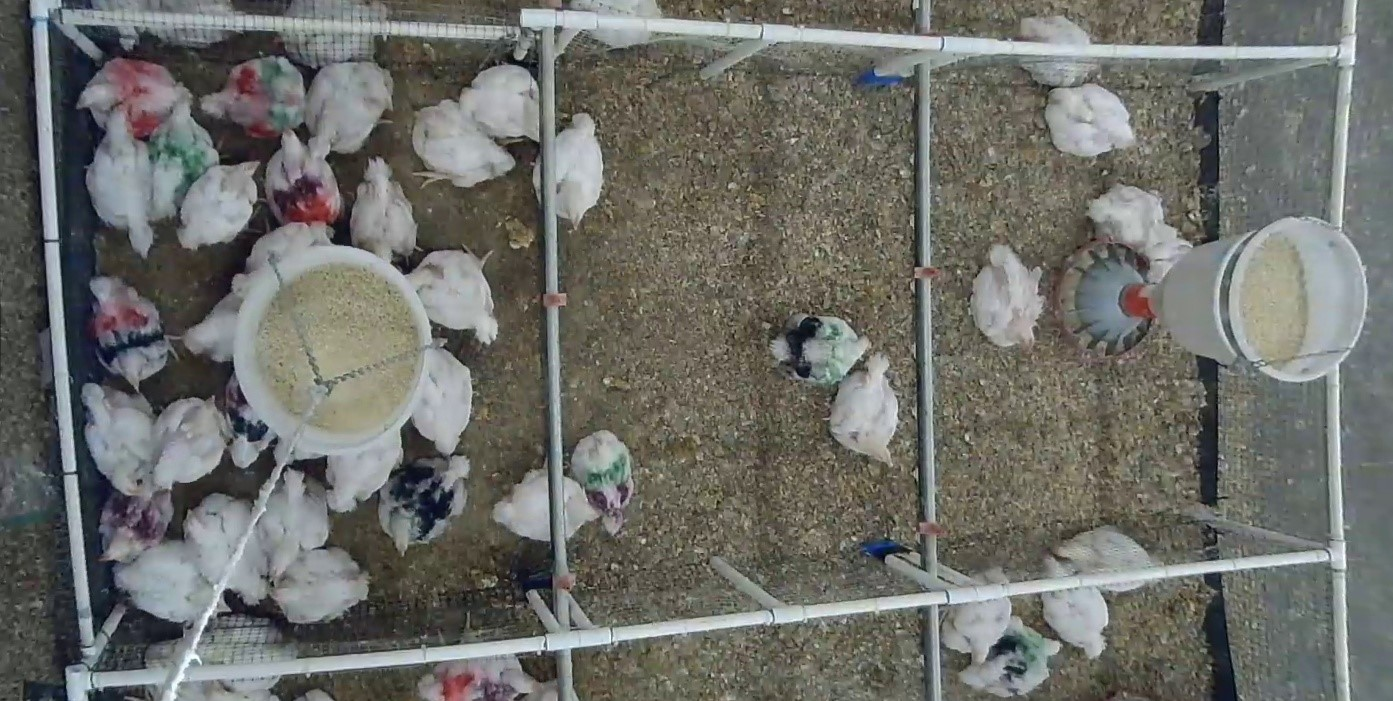chicken: (414, 610, 544, 701), (144, 613, 295, 689), (91, 277, 185, 391), (87, 107, 154, 256), (182, 492, 270, 604), (113, 541, 230, 623), (413, 98, 517, 188), (491, 460, 602, 544), (405, 241, 497, 342), (77, 58, 192, 137), (379, 457, 469, 557), (957, 616, 1062, 697), (306, 60, 395, 155), (149, 102, 219, 219), (532, 114, 603, 229), (200, 57, 304, 135), (968, 244, 1042, 351), (256, 471, 328, 580), (81, 384, 151, 495), (235, 222, 334, 300), (830, 354, 898, 467), (265, 130, 344, 227), (270, 546, 371, 621), (152, 395, 232, 489), (351, 155, 418, 266), (179, 160, 261, 249), (278, 0, 386, 67), (1053, 527, 1163, 591), (1041, 557, 1108, 659), (412, 340, 471, 455), (571, 430, 635, 535), (944, 567, 1011, 666), (770, 315, 870, 380), (327, 427, 402, 513), (1045, 83, 1133, 155), (459, 64, 540, 141), (98, 488, 176, 563), (1089, 185, 1180, 249), (222, 365, 277, 468), (1021, 16, 1098, 84), (144, 0, 246, 46), (569, 0, 662, 48), (187, 292, 248, 362), (89, 0, 152, 50), (1147, 236, 1196, 281), (146, 687, 281, 701), (522, 675, 579, 701)
